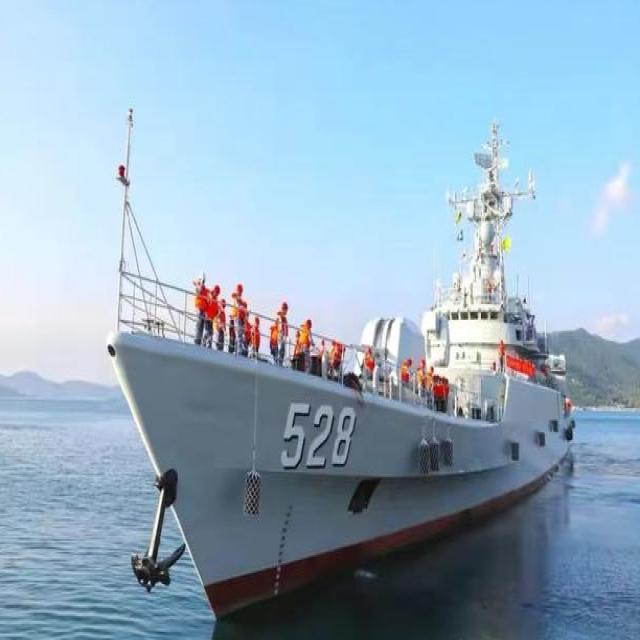navalvessels: (99, 95, 582, 625)
